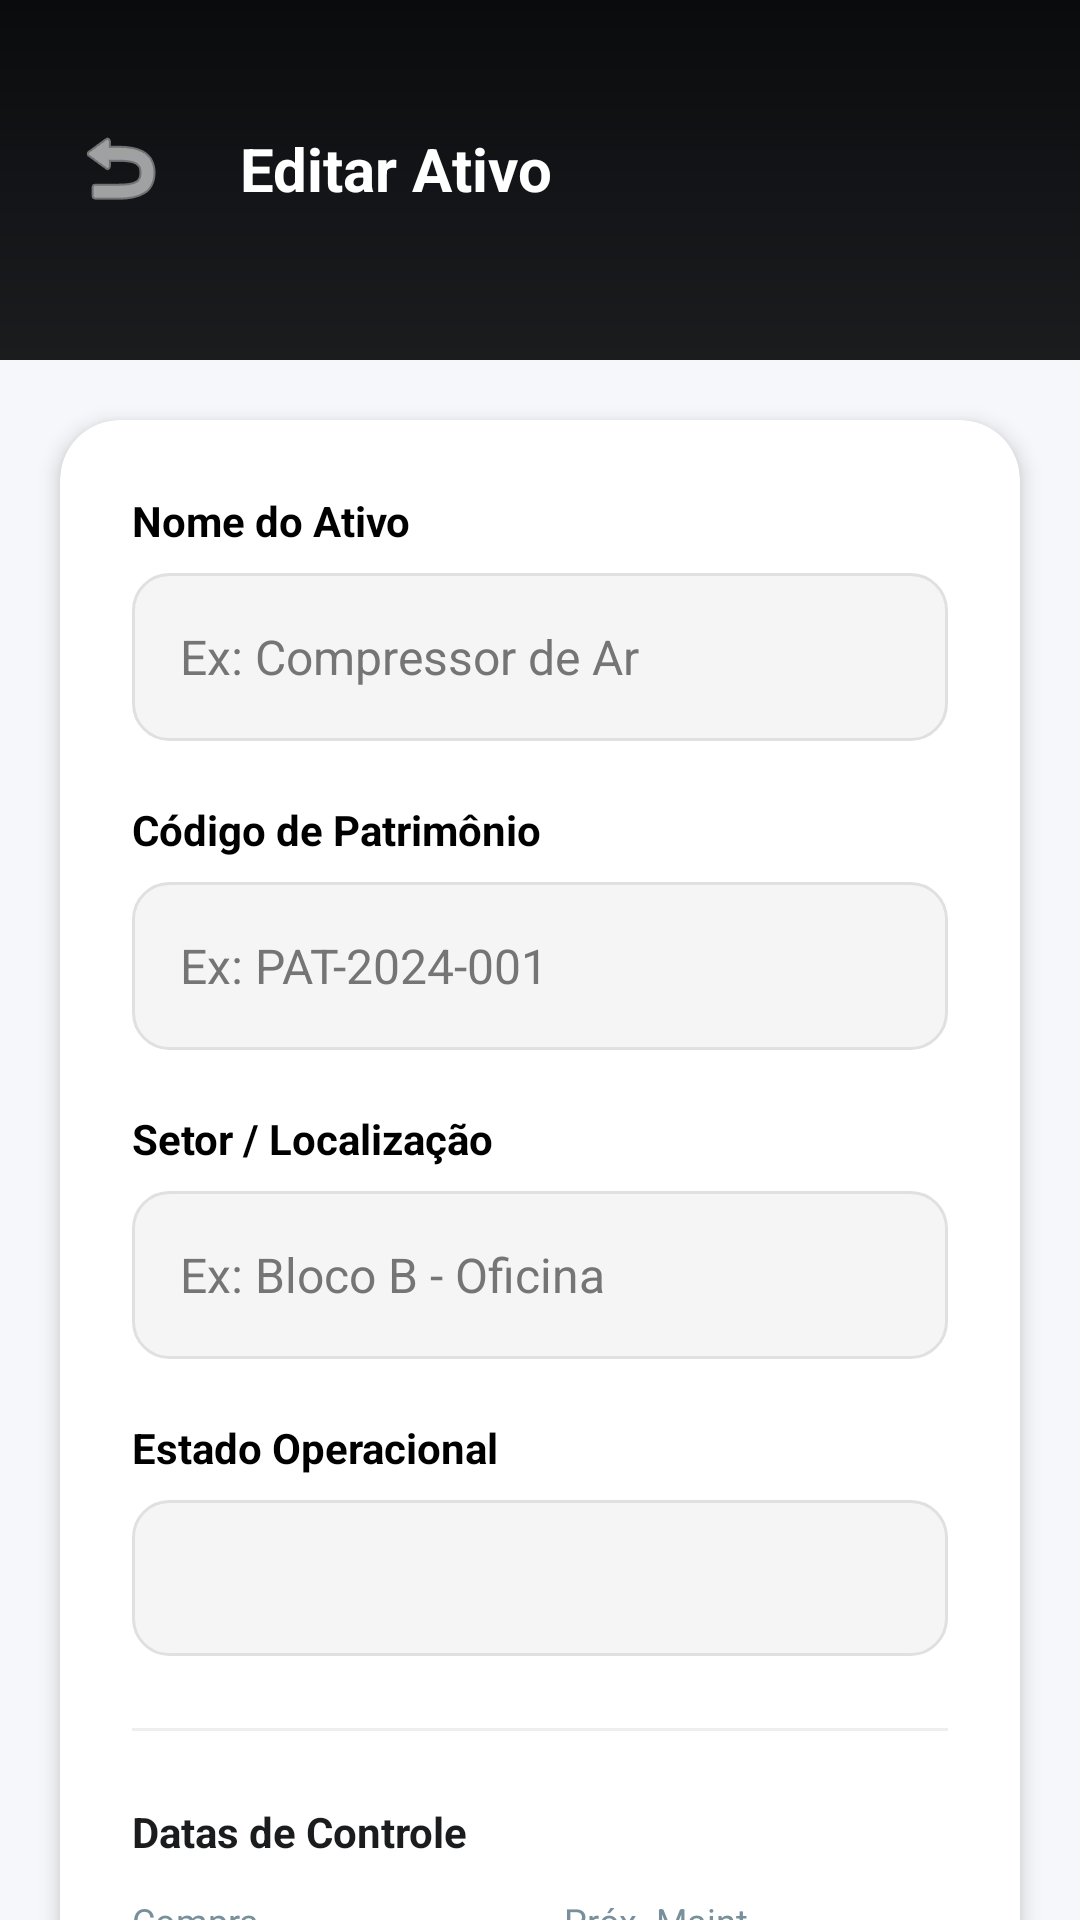

Where icons sit on this 1080px x 1920px app screen, as [x1=x1, y1=y1, x2=x2, y2=y2]:
revert: [x1=87, y1=137, x2=156, y2=200]
